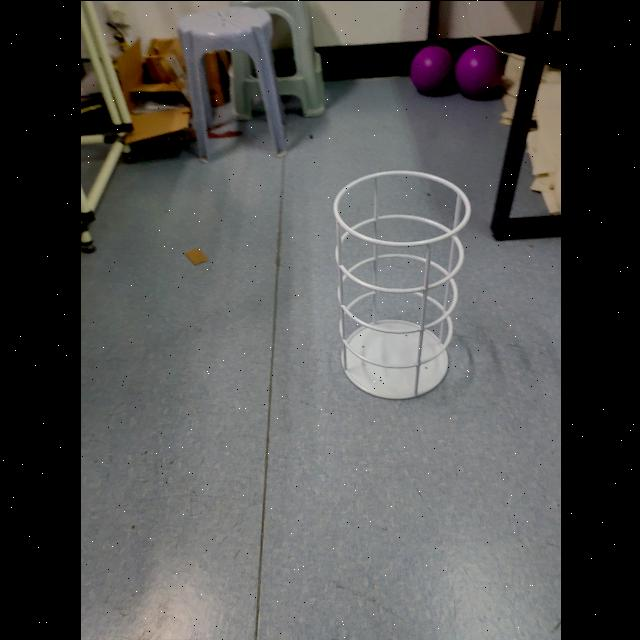S: (330, 167, 474, 403)
